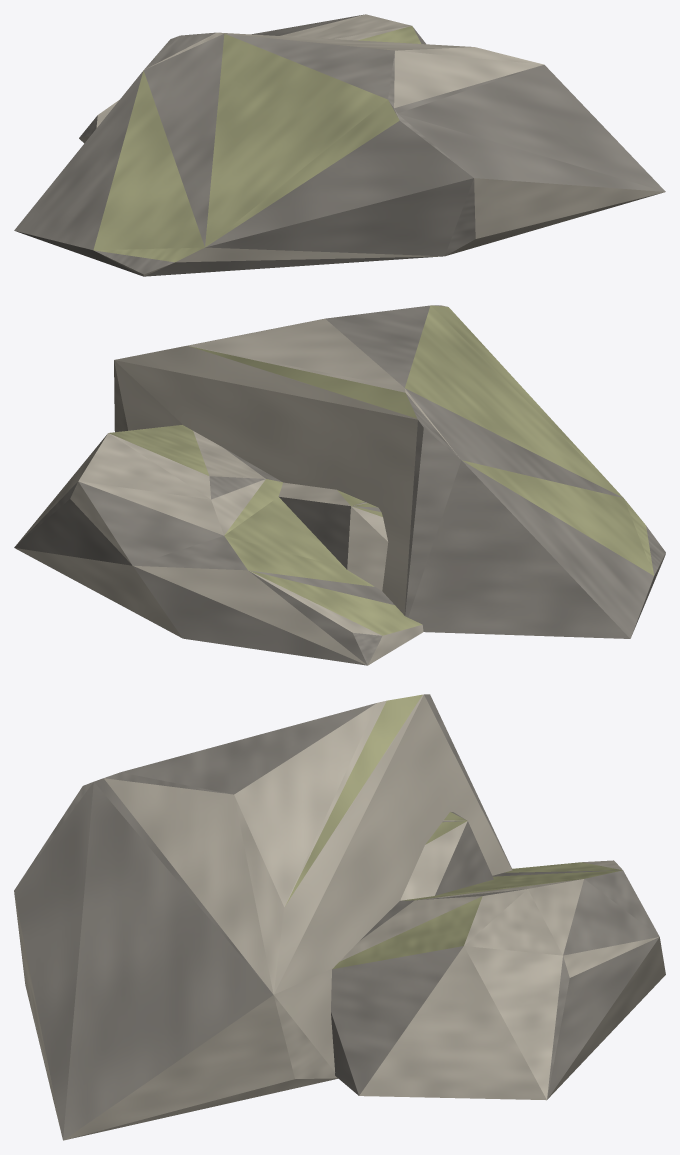
The model's file is rock_pebble_set_05.fbx.
The picture shows the model from 3 angles, top to bottom: view 1: azimuth 30°, elevation 25°; view 2: azimuth 150°, elevation 25°; view 3: azimuth 270°, elevation 25°; orthographic projection. The views are drawn at different scales.
Parts seen in each view (by area): view 1: rock_pebble_set_05; view 2: rock_pebble_set_05; view 3: rock_pebble_set_05.
Part boxes in pixels (<box>): rock_pebble_set_05: <box>14,14,665,276</box>; rock_pebble_set_05: <box>14,305,665,665</box>; rock_pebble_set_05: <box>14,694,665,1140</box>.
Size of the model in its own units: 0.3522 by 0.099 by 0.2712.
